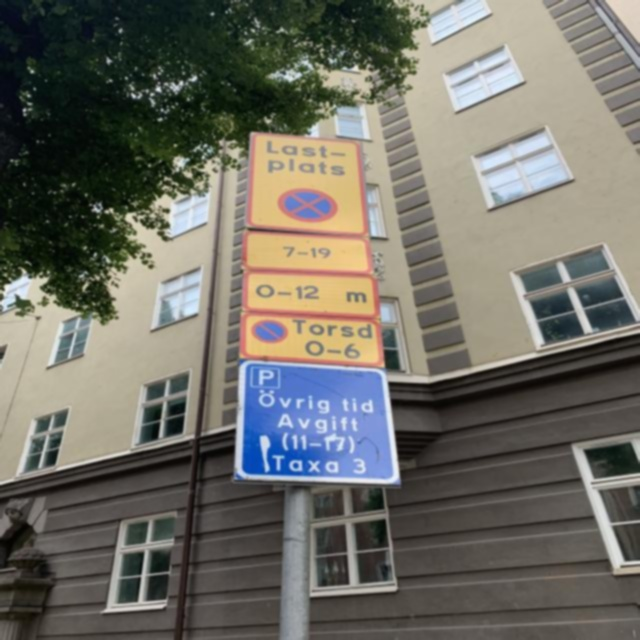lastplats: (243, 130, 376, 238)
